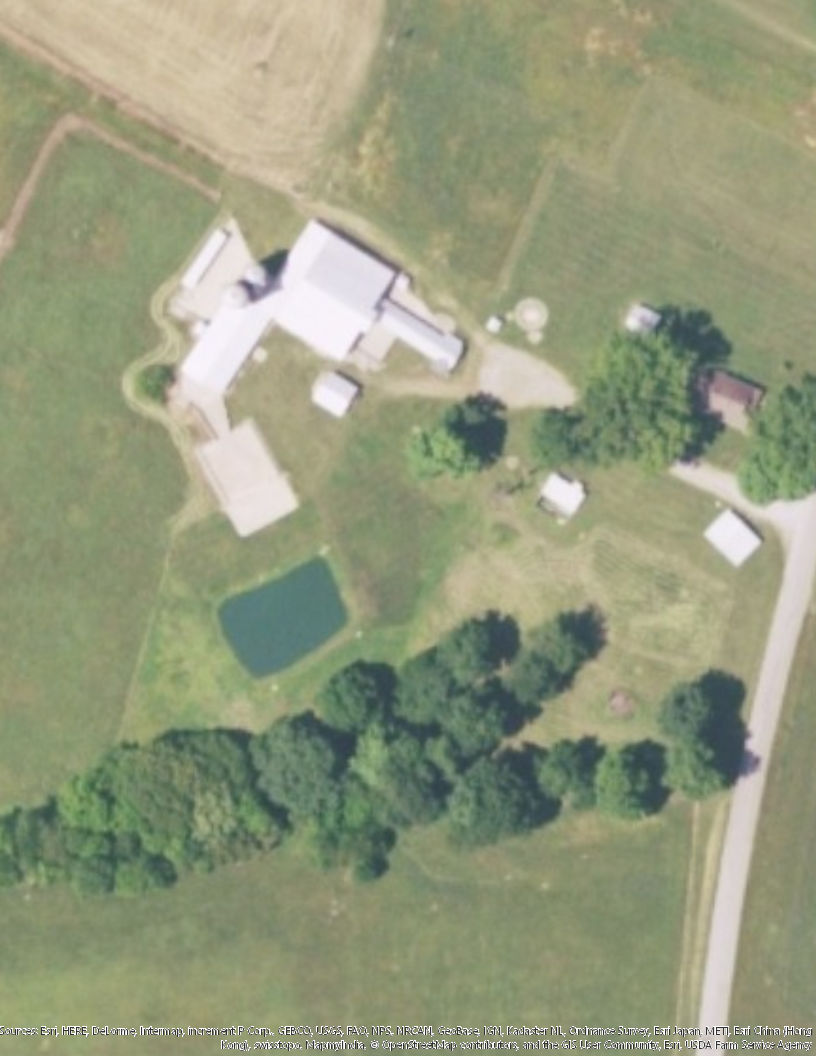cafo: (136, 216, 468, 543)
